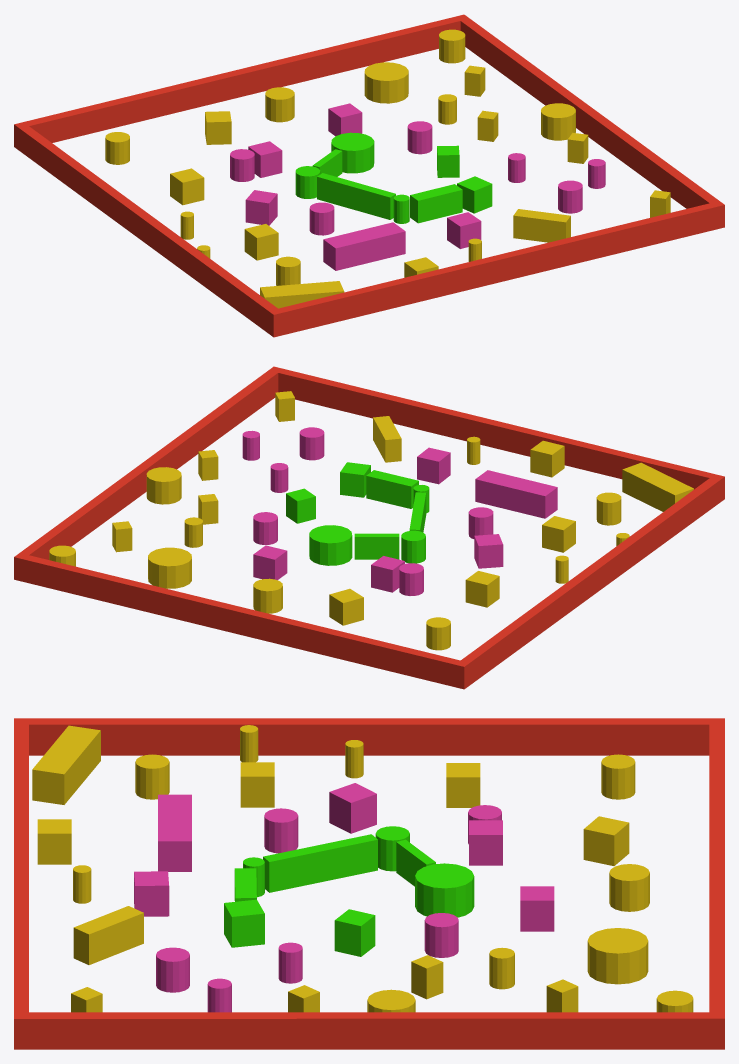
File: wavefront_map.dae
The picture shows the model from 3 angles, top to bottom: view 1: azimuth 30°, elevation 25°; view 2: azimuth 150°, elevation 25°; view 3: azimuth 270°, elevation 25°; orthographic projection. The views are drawn at different scales.
Visible parts, largest first — view 1: Plane, Cube.016, Cube.019, Cylinder.006, Cube.012, Cube.020, Cube.017, Cylinder.012, Cylinder.015, Cube.005, Cube.004, Cube.009 (+20 smaller); view 2: Plane, Cube.016, Cube.017, Cylinder.006, Cylinder.012, Cube.020, Cylinder.015, Cube.018, Cube.003, Cube.006, Cube.005, Cube.012 (+22 smaller); view 3: Plane, Cube.019, Cube.017, Cylinder.006, Cube.012, Cylinder.012, Cube.016, Cube.009, Cube.006, Cylinder.001, Cube.001, Cube.008 (+26 smaller).
Part boxes in pixels (x1,y1,x2,y2): Plane: (14,14,724,337); Cube.016: (323,222,405,270); Cube.019: (317,173,395,219); Cylinder.006: (364,62,408,103); Cube.012: (513,209,570,242); Cube.020: (410,184,462,223); Cube.017: (260,281,344,308); Cylinder.012: (331,132,374,173); Cylinder.015: (541,103,575,140); Cube.005: (170,168,204,205); Cube.004: (244,224,278,260); Cube.009: (245,190,277,225); Plane: (14,366,724,689); Cube.016: (475,470,557,518); Cube.017: (622,462,693,511); Cylinder.006: (148,547,191,588); Cylinder.012: (309,525,352,565); Cube.020: (366,470,418,508); Cylinder.015: (146,467,181,504); Cube.018: (354,533,399,559); Cube.003: (530,440,564,477); Cube.006: (329,588,363,625); Cube.005: (465,571,499,607); Cube.012: (373,416,401,462); Plane: (14,718,724,1049); Cube.019: (263,834,377,892); Cube.017: (32,725,100,804); Cylinder.006: (587,928,648,984); Cube.012: (73,906,143,964); Cylinder.012: (415,863,474,917); Cube.016: (158,794,191,871); Cube.009: (329,783,376,833); Cube.006: (583,816,629,865); Cylinder.001: (609,864,649,911); Cube.001: (224,899,264,947); Cube.008: (334,909,375,956).
Size of the model in its own units: 41.82 by 41.78 by 2.
